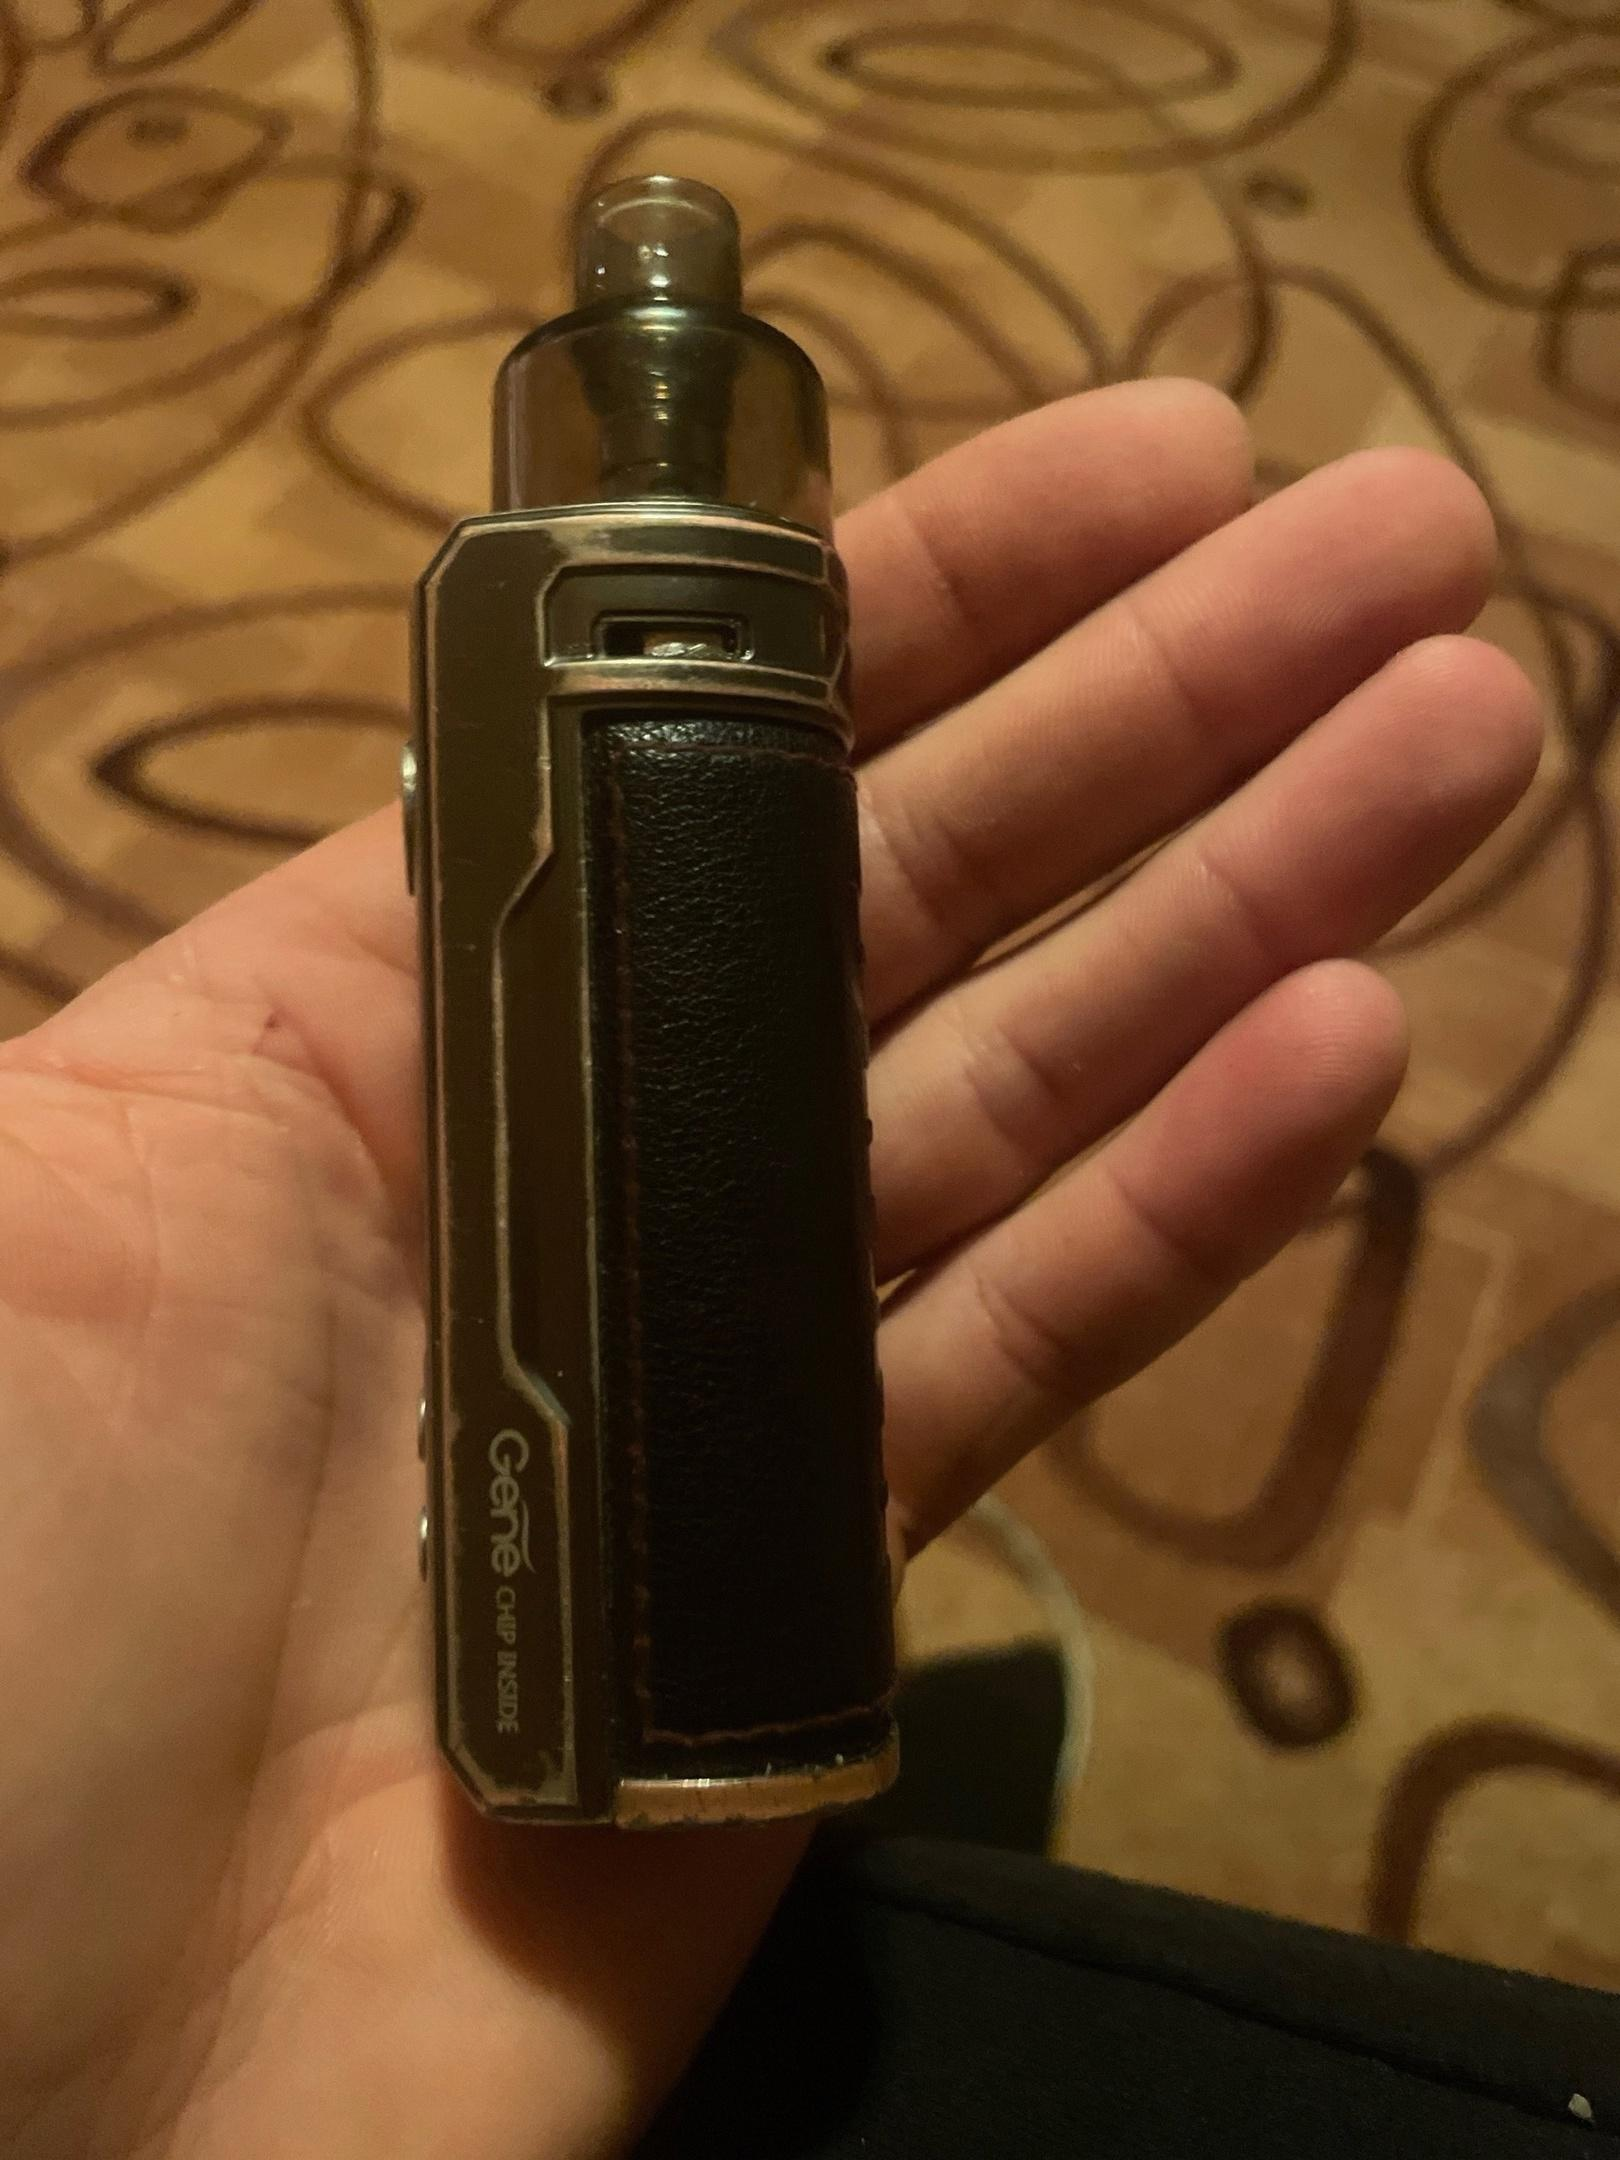Vape: (405, 176, 894, 1823)
